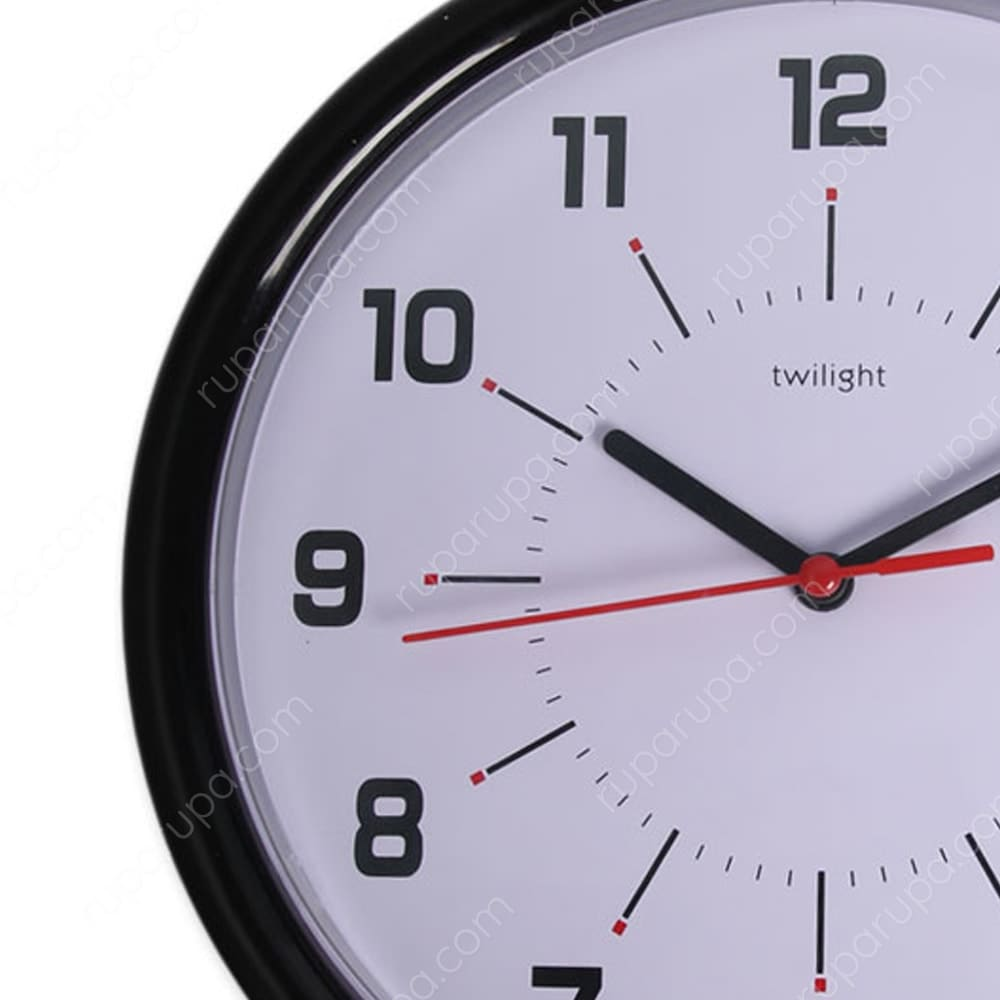jam dinding: (135, 6, 1000, 966)
